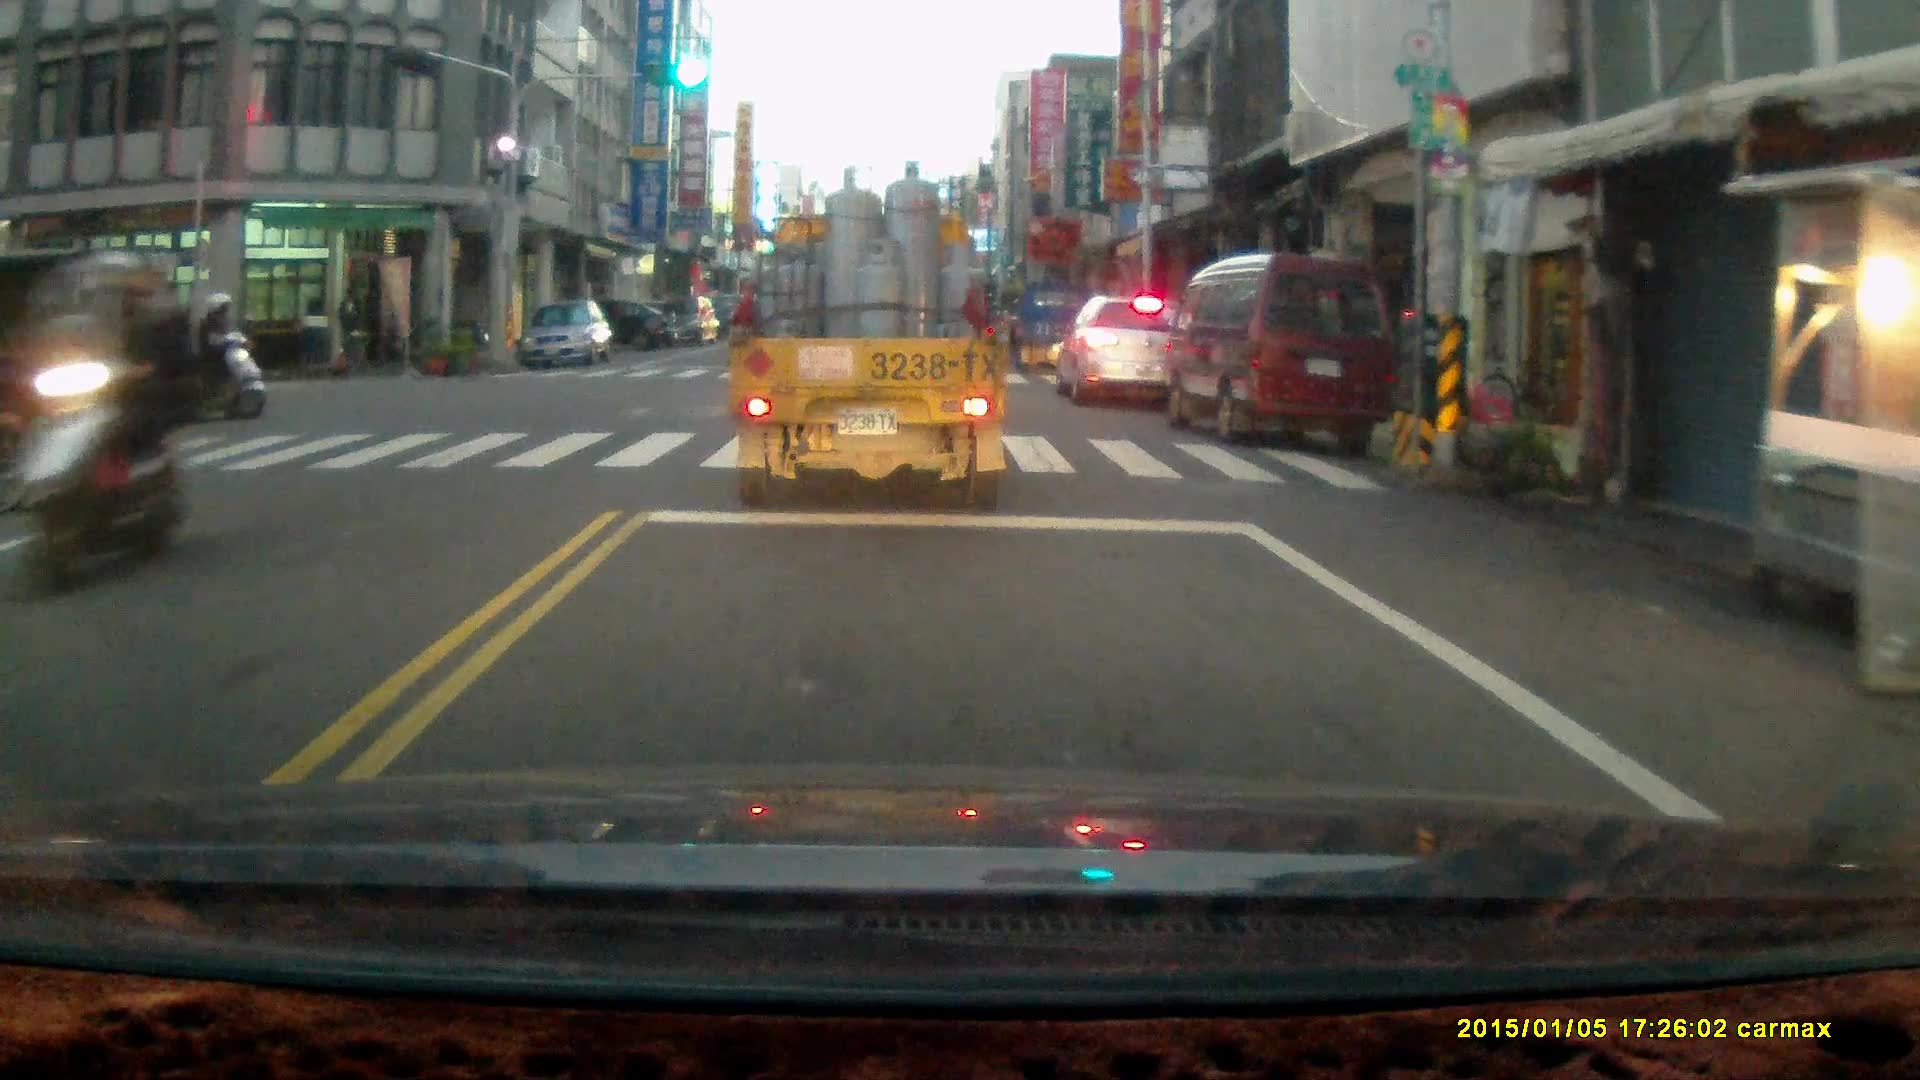pedestrian: (333, 281, 367, 376)
rider: (17, 239, 193, 591), (157, 287, 265, 417)
vehicle: (731, 164, 1015, 511), (1167, 251, 1404, 451), (1, 247, 162, 434), (1049, 289, 1203, 414), (1009, 281, 1100, 380), (550, 298, 678, 358), (520, 298, 617, 371), (637, 295, 719, 346)
